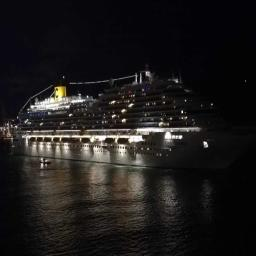cruises: (13, 62, 217, 174)
